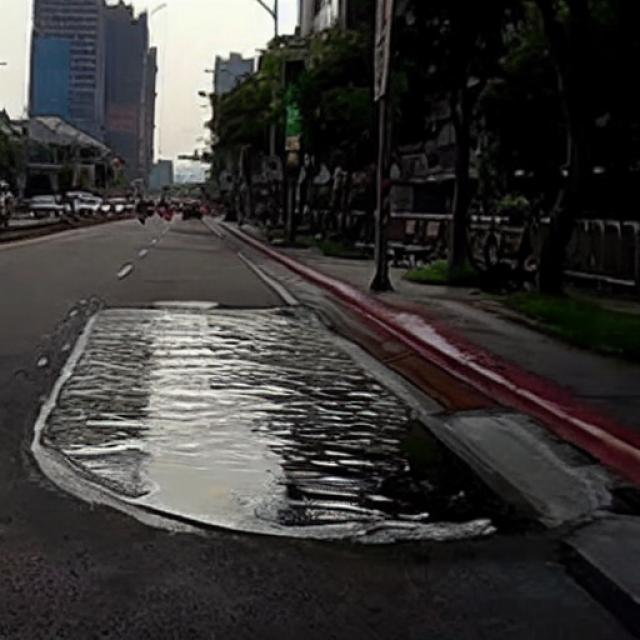puddle: (36, 307, 512, 540)
